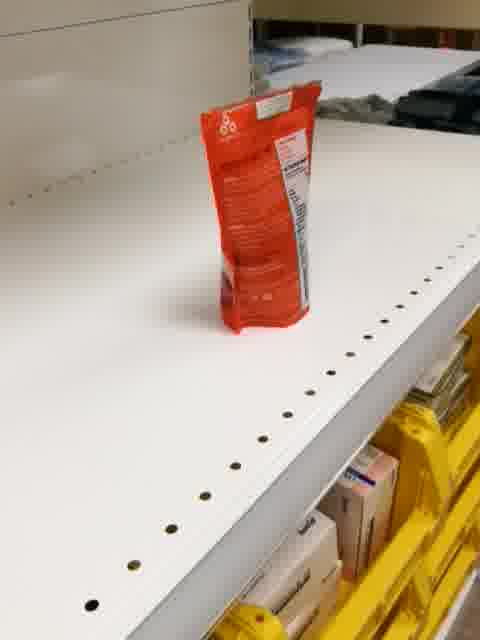whitechia: (199, 77, 323, 336)
